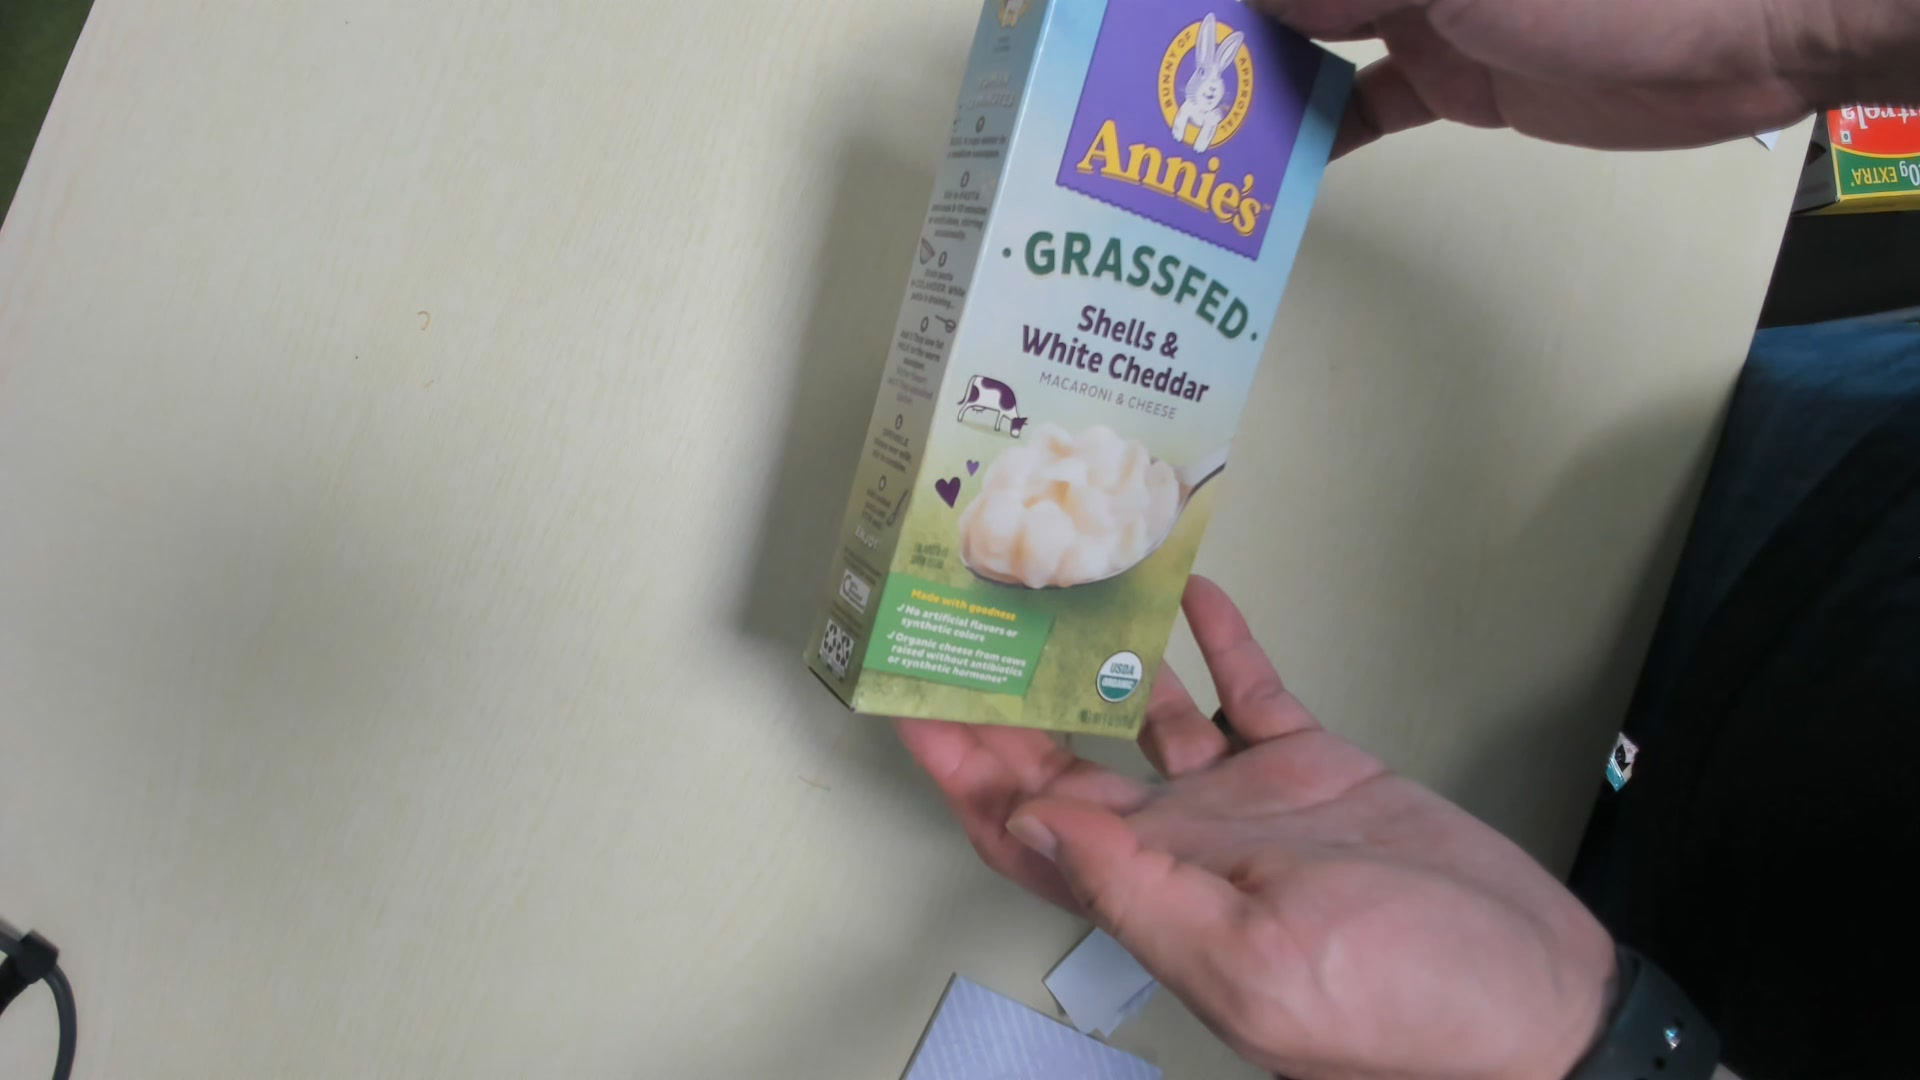InstantMeals_100_199g_NonHalal_NonHealthy: (806, 5, 1349, 753)
